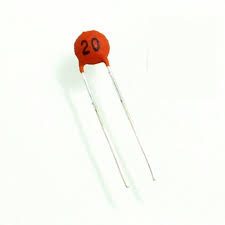ceramic capacitor: (52, 6, 152, 104)
